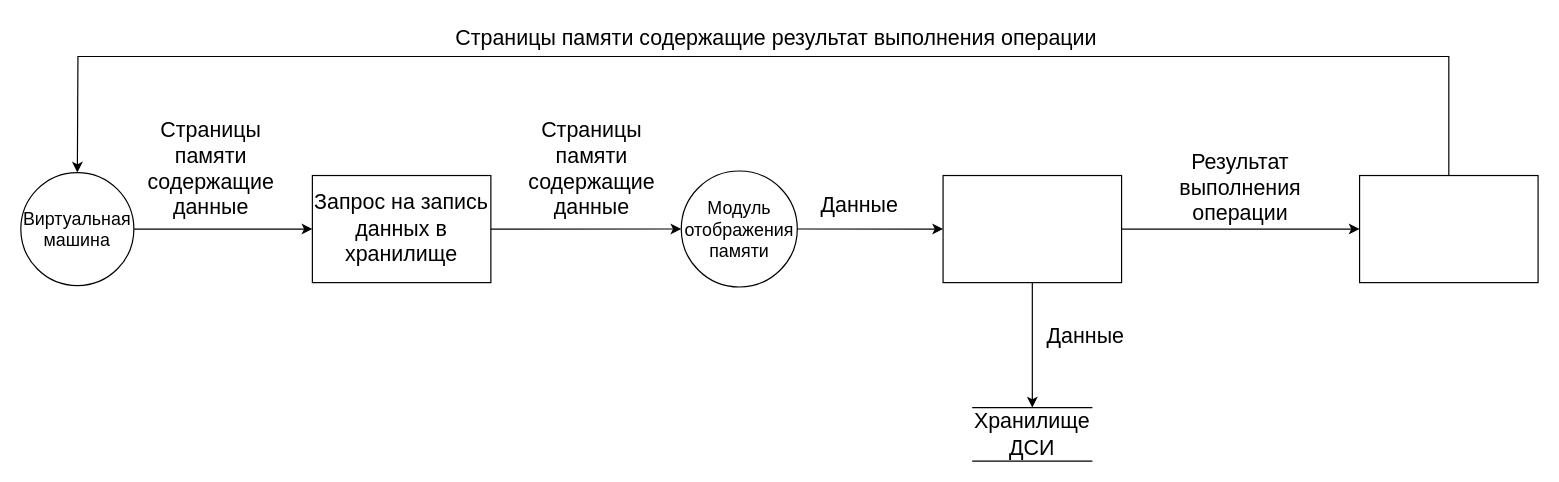
Image size: 1559x482. Some labels were removed from this diagram. The box of each missing label's shape, as (x1, y1, x2, y2) in pixels:
Выделить новые страницы памяти для выходных данных: (1358, 174, 1538, 283)
Запись данных в хранилище: (942, 174, 1122, 283)
